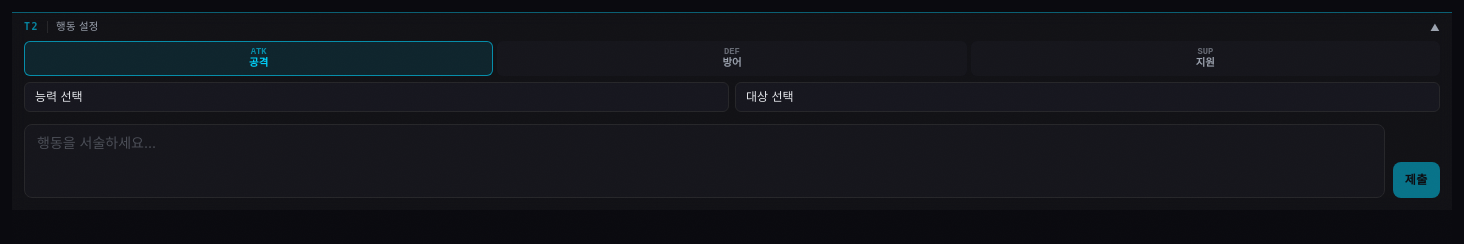
Scenario: ActionInput › 코스트 부족 시 경고 표시 + 제출 비활성화
The image size is (1464, 244).
Select "역장 전개 I" in the dropdown with test id "ability-select" at (376, 97), box [24, 82, 729, 112]
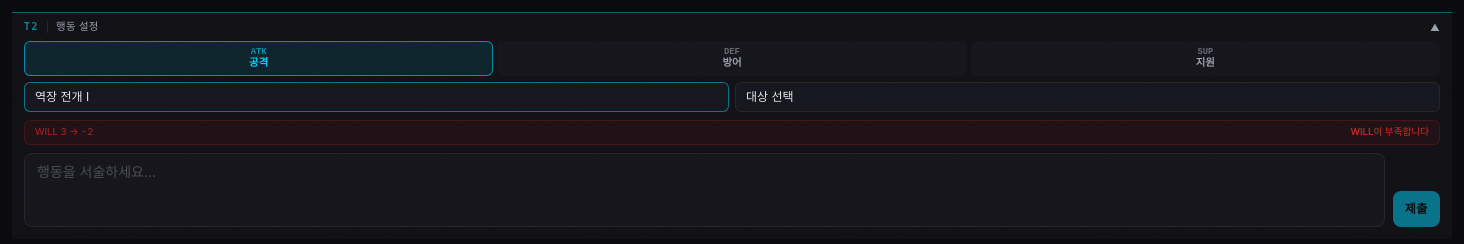
Expected: the text with test id "cost-warning" reads "WILL이 부족합니다", [1350, 126, 1429, 137]
